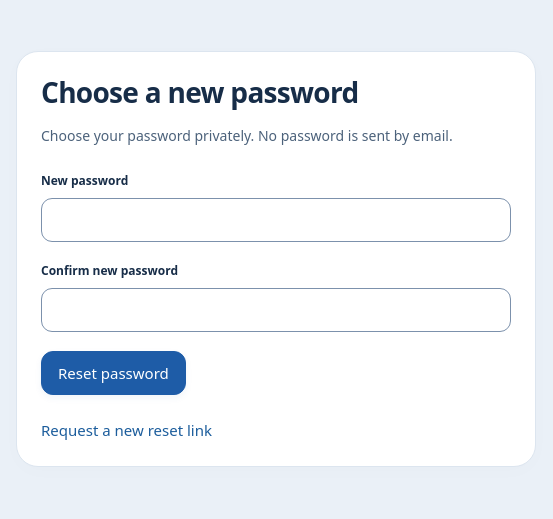
Test: private password reset links › checks matching confirmation locally and shows an invalid or expired server response
Type "new-password" into the password field labelled "New password" at (276, 220), box [41, 198, 511, 242]
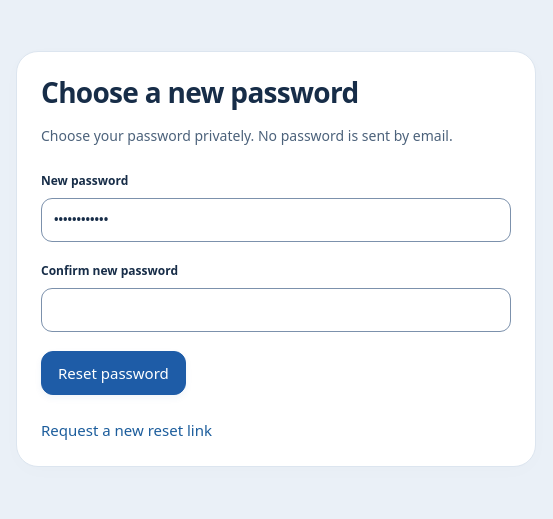
Type "different" into the password field labelled "Confirm new password" at (276, 310), box [41, 288, 511, 332]
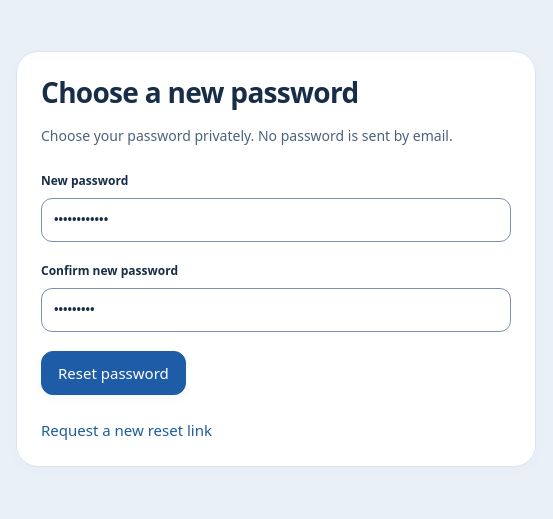
Click the button "Reset password" at (113, 373), box [41, 351, 186, 395]
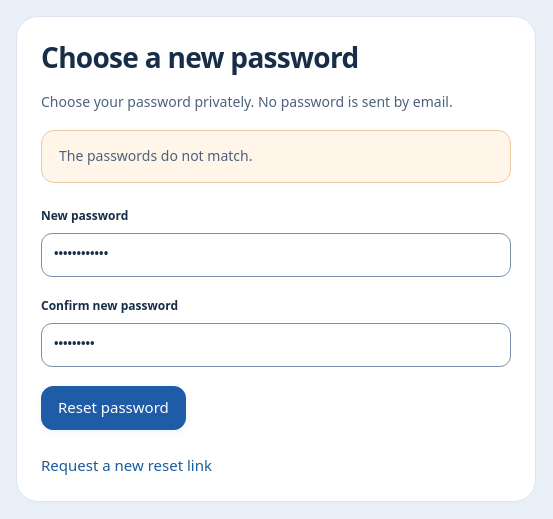
Now the text "The passwords do not match." is shown, box [41, 130, 511, 182]
Type "synthetic-new-password" into the password field labelled "New password" at (276, 255), box [41, 233, 511, 277]
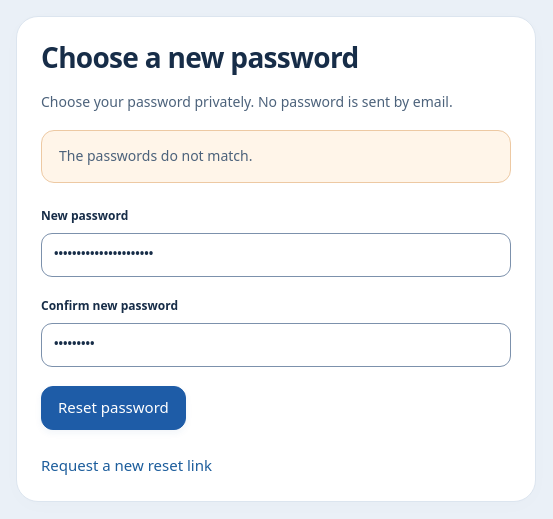
Type "synthetic-new-password" into the password field labelled "Confirm new password" at (276, 345), box [41, 323, 511, 367]
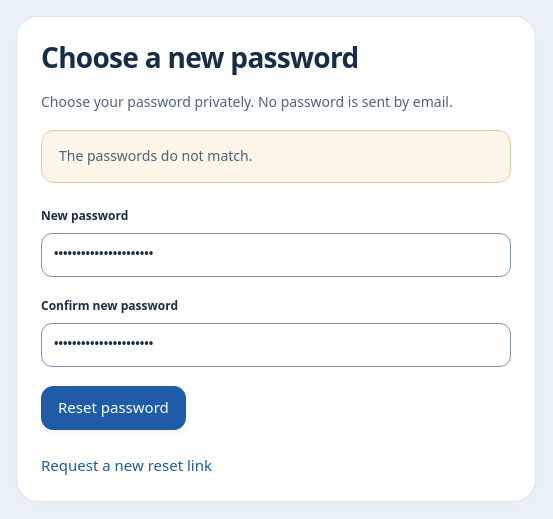
Click the button "Reset password" at (113, 408), box [41, 386, 186, 430]
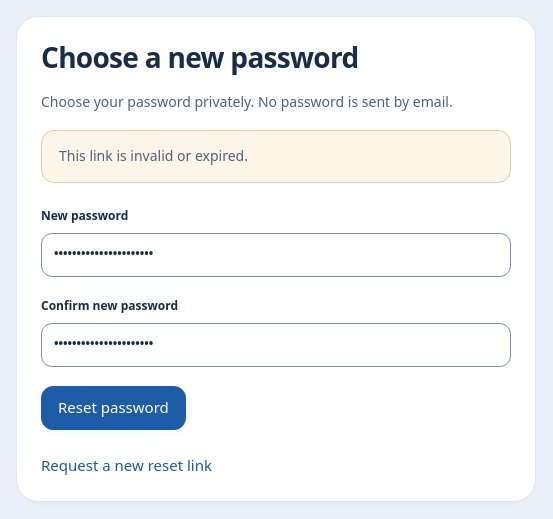
Now the text "This link is invalid or expired." is shown, box [41, 130, 511, 182]
